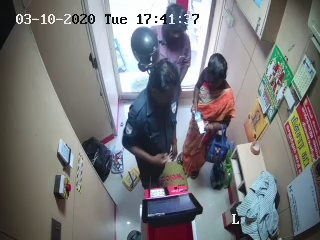helmet: (129, 26, 165, 72)
